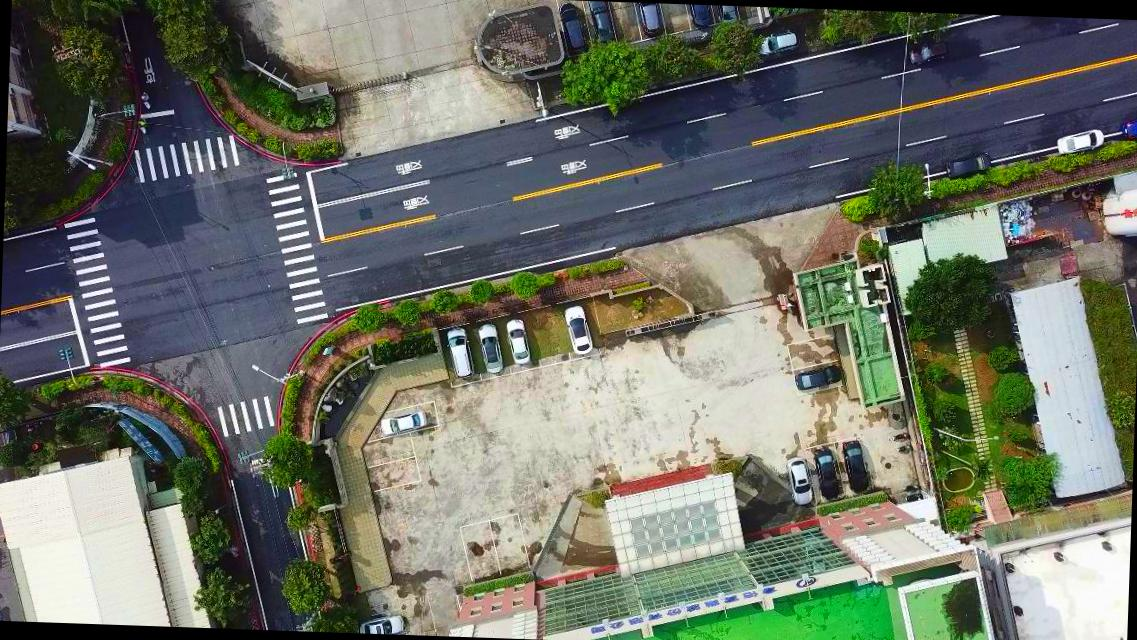vehicle: (840, 439, 871, 494), (562, 305, 594, 357), (782, 456, 814, 506), (812, 447, 841, 502), (475, 323, 504, 375), (943, 151, 990, 183), (1054, 126, 1104, 156), (750, 28, 800, 58), (442, 328, 470, 380), (792, 362, 840, 392), (586, 1, 617, 46), (557, 5, 585, 54), (380, 408, 426, 436), (504, 318, 529, 367), (908, 39, 949, 65), (361, 612, 407, 634), (638, 2, 663, 38), (689, 4, 713, 31), (716, 5, 739, 28), (1120, 117, 1136, 140)
